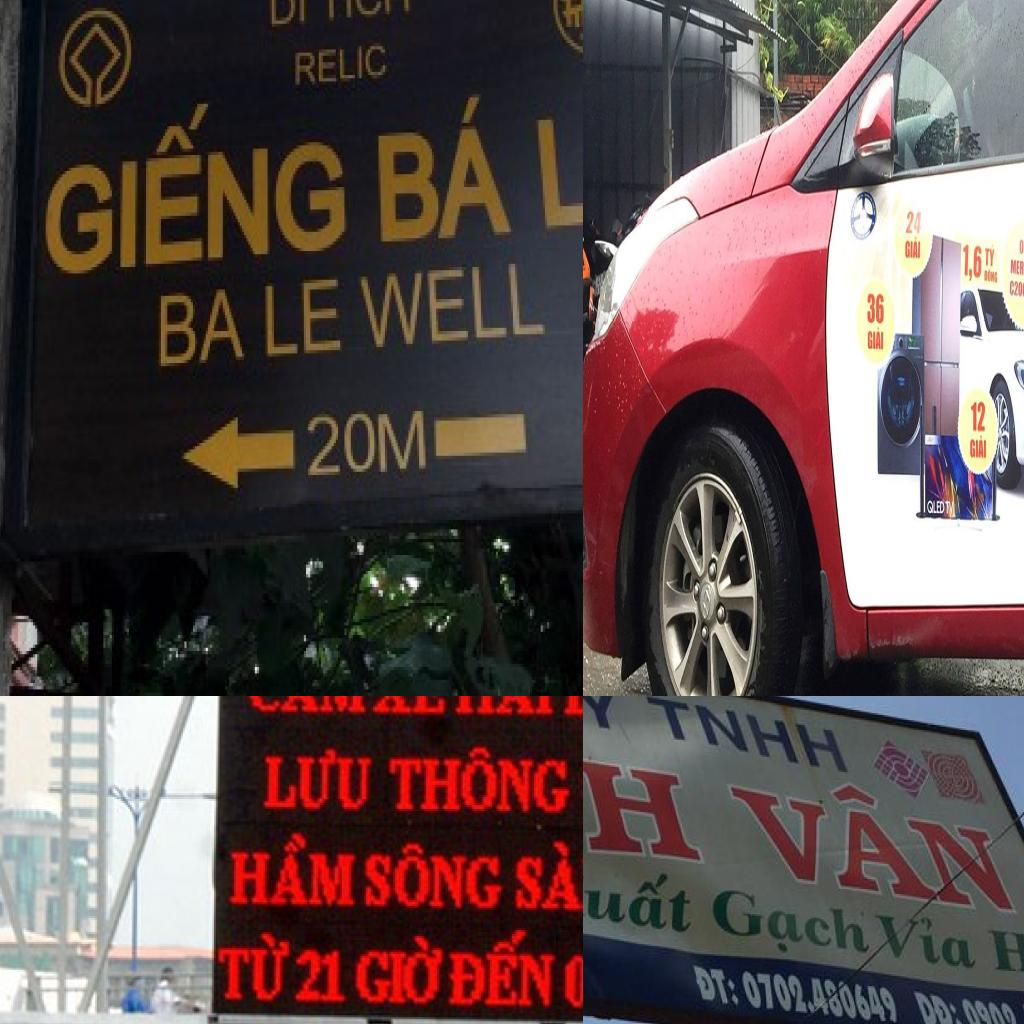text: (46, 104, 351, 283), (714, 762, 1020, 919), (376, 88, 515, 244), (353, 260, 547, 354), (645, 696, 851, 778), (386, 745, 574, 821), (711, 884, 873, 966), (360, 837, 507, 916), (527, 43, 583, 232), (226, 835, 356, 914), (734, 965, 906, 1024), (446, 928, 556, 1015), (583, 867, 694, 939), (261, 747, 375, 817), (261, 273, 349, 363), (872, 904, 980, 976), (157, 286, 246, 366), (350, 938, 446, 1011), (214, 928, 293, 1007), (289, 36, 389, 98), (508, 838, 583, 916), (291, 942, 351, 1007), (453, 696, 559, 723), (316, 0, 419, 27), (692, 964, 745, 1013), (246, 696, 369, 717), (367, 696, 451, 721), (911, 989, 965, 1024), (992, 929, 1024, 981), (583, 696, 621, 738), (561, 943, 583, 1015), (267, 0, 310, 33), (961, 238, 983, 286), (864, 322, 886, 354), (866, 290, 886, 325), (970, 397, 987, 435), (904, 208, 924, 238), (968, 435, 988, 460), (904, 236, 922, 262), (926, 498, 946, 518), (983, 242, 997, 269), (1009, 255, 1024, 280), (1008, 278, 1024, 301), (984, 268, 998, 286), (1017, 235, 1024, 256), (946, 500, 954, 516)
